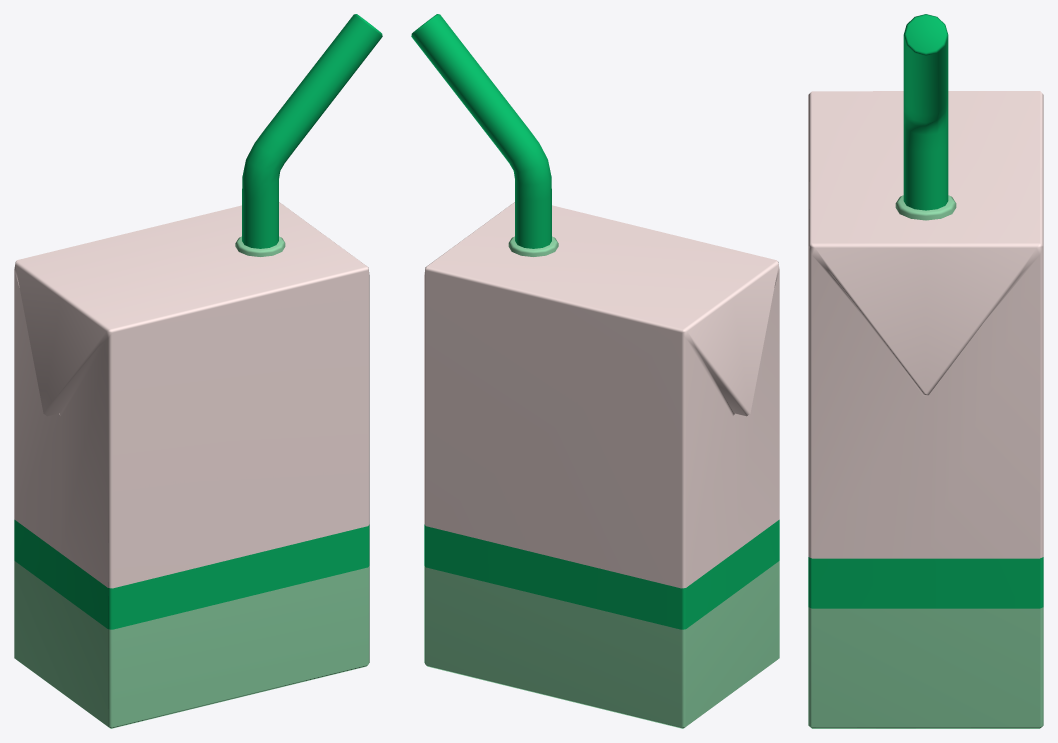
File: juice_box.glb
3 renders of one model, left to right at view 1: azimuth 30°, elevation 25°; view 2: azimuth 150°, elevation 25°; view 3: azimuth 270°, elevation 25°, orthographic. The views are drawn at different scales.
Parts seen in each view (by area): view 1: Juice_Box; view 2: Juice_Box; view 3: Juice_Box.
Part boxes in pixels (x1,y1,x2,y2): Juice_Box: (14,14,382,728); Juice_Box: (411,14,779,728); Juice_Box: (808,14,1043,728).
Bounding box in the file's own units: 0.1197 × 0.2065 × 0.0598.
Materials: 1 (1 with a texture image).
